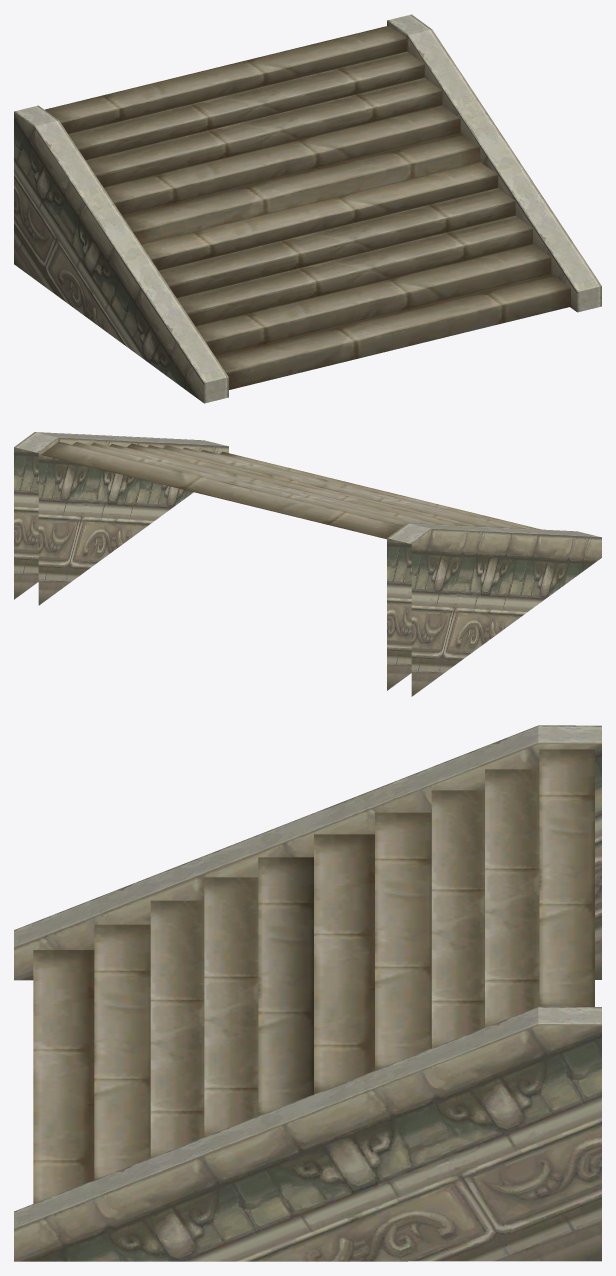
File: environment_Building_zhucheng_002_g.FBX
The picture shows the model from 3 angles, top to bottom: view 1: azimuth 30°, elevation 25°; view 2: azimuth 150°, elevation 25°; view 3: azimuth 270°, elevation 25°; orthographic projection. The views are drawn at different scales.
Parts seen in each view (by area): view 1: environment_Building_zhucheng_002_g2, environment_Building_zhucheng_002_g1; view 2: environment_Building_zhucheng_002_g1, environment_Building_zhucheng_002_g2; view 3: environment_Building_zhucheng_002_g2, environment_Building_zhucheng_002_g1.
Part boxes in pixels (bbox=[...]): environment_Building_zhucheng_002_g2: bbox=[45, 25, 570, 389]; environment_Building_zhucheng_002_g1: bbox=[14, 14, 601, 403]; environment_Building_zhucheng_002_g1: bbox=[14, 432, 601, 696]; environment_Building_zhucheng_002_g2: bbox=[37, 442, 541, 540]; environment_Building_zhucheng_002_g2: bbox=[33, 749, 594, 1203]; environment_Building_zhucheng_002_g1: bbox=[14, 725, 601, 1261].
Size of the model in its own units: 538 by 198 by 446.
